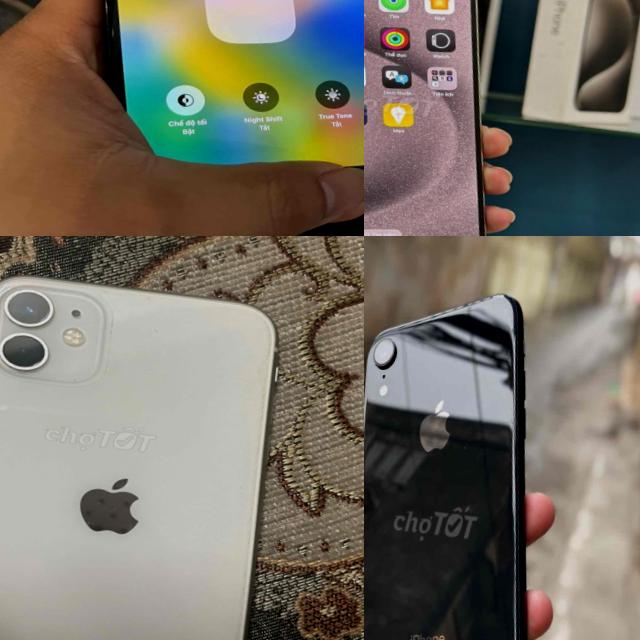gen_11: (0, 248, 297, 640)
gen_12_13: (32, 0, 364, 192)
gen_15: (364, 0, 532, 236)
gen_x_xs: (364, 294, 525, 640)
